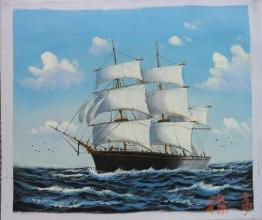fanchuan: (52, 42, 210, 176)
